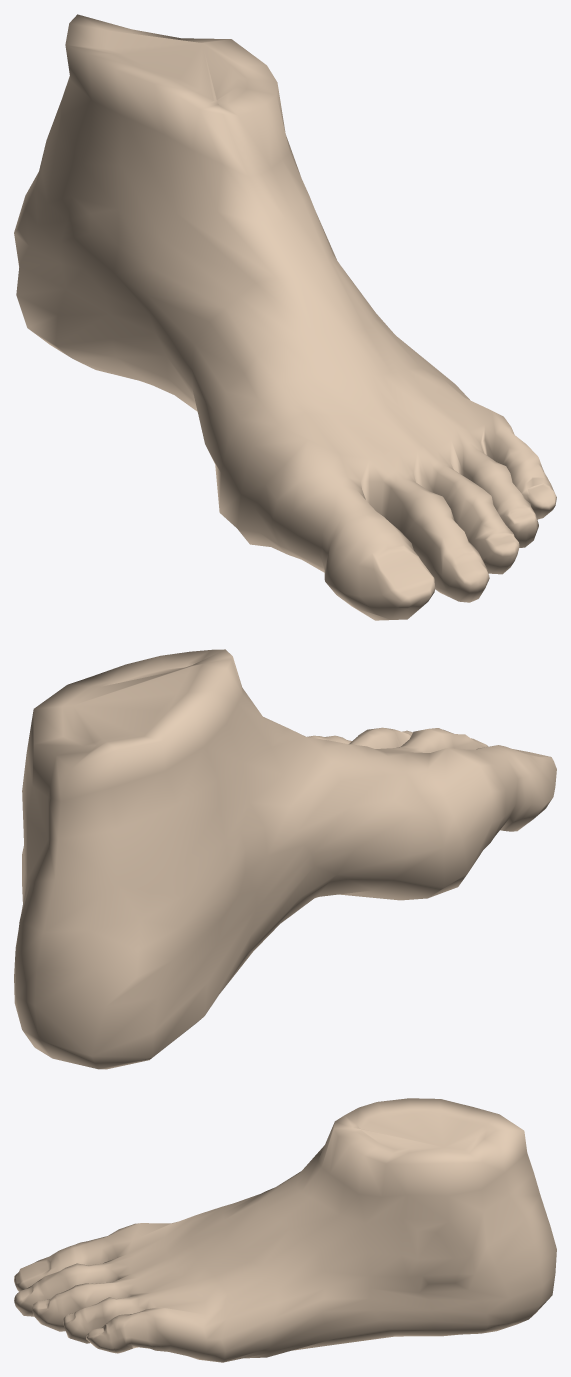
The model's file is FootL.fbx.
3 views of the same model, one above another, from view 1: azimuth 30°, elevation 25°; view 2: azimuth 150°, elevation 25°; view 3: azimuth 270°, elevation 25° (orthographic). The views are drawn at different scales.
Parts seen in each view (by area): view 1: FootL; view 2: FootL; view 3: FootL.
Part boxes in pixels (<box>): FootL: <box>14,14,556,620</box>; FootL: <box>14,649,556,1069</box>; FootL: <box>14,1098,556,1362</box>.
Size of the model in its own units: 90.24 by 104 by 240.
